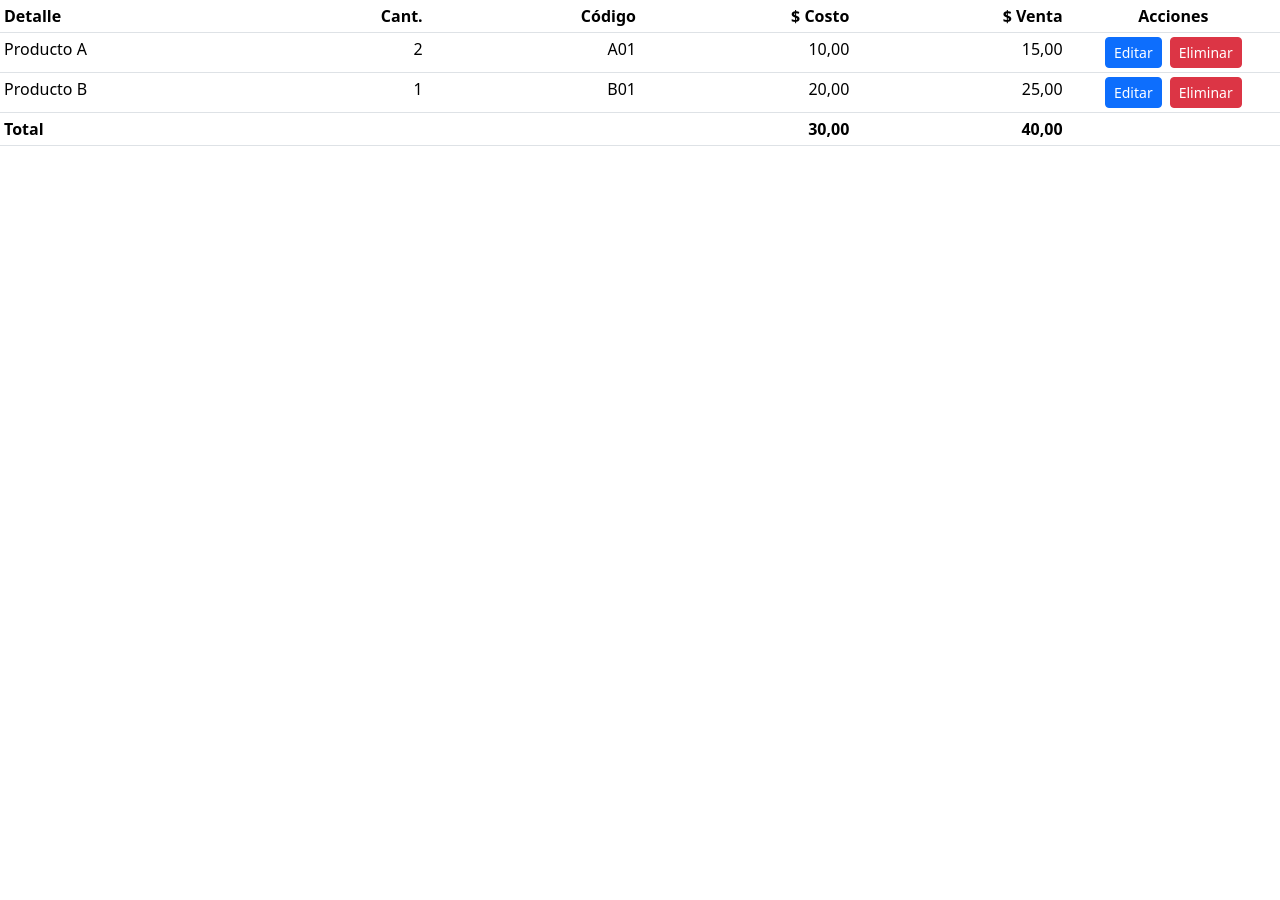
it: ProductsTable › abre modal de edición al hacer clic en Editar
Click the button "Editar" in the row of "Producto A" at (1133, 52), box [1105,37,1162,68]
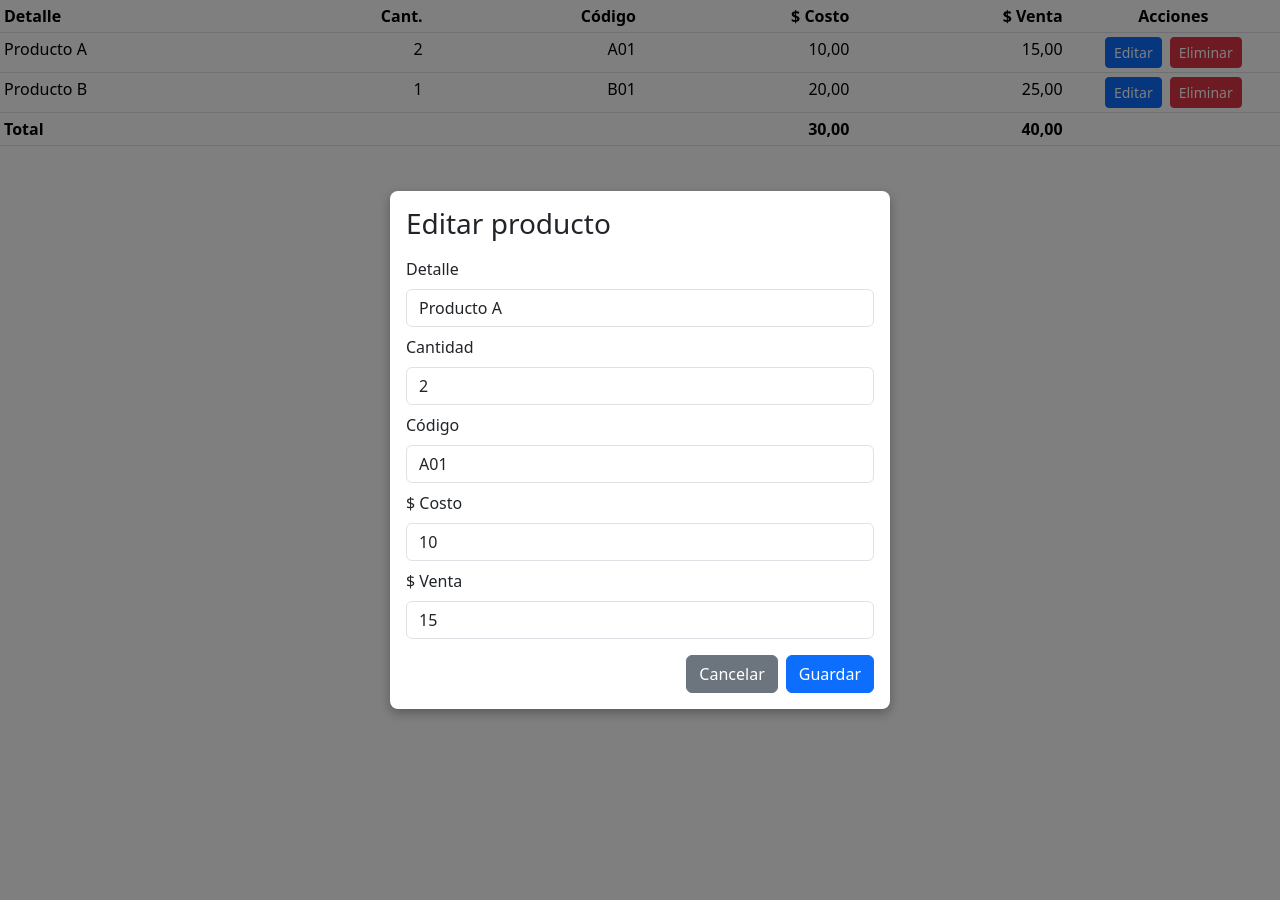
Now the heading "Editar producto" is shown, box [406,204,611,242]
Now the 1st field showing "Producto A" is shown, box [406,289,874,327]
